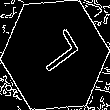L_SW: (28, 28, 82, 82)
